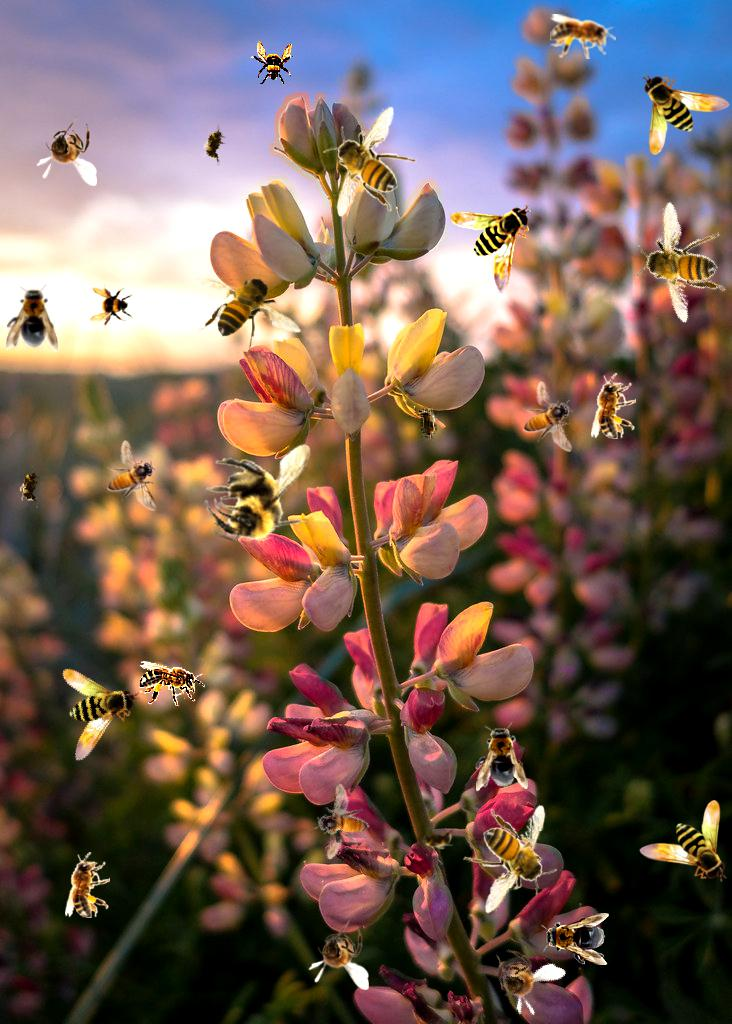Bee: (192, 417, 331, 562), (610, 187, 732, 333), (31, 659, 143, 775), (461, 801, 560, 917), (323, 106, 417, 217), (192, 263, 303, 357), (476, 937, 567, 1024), (639, 800, 727, 882), (642, 73, 730, 155), (450, 205, 532, 293), (301, 782, 381, 869), (36, 116, 97, 186), (308, 920, 369, 990), (471, 721, 529, 793), (107, 440, 157, 511), (523, 381, 573, 452), (541, 913, 609, 965), (6, 284, 58, 352), (139, 661, 205, 706), (591, 373, 636, 439), (550, 14, 616, 59), (65, 852, 110, 918), (89, 285, 133, 329), (250, 41, 294, 85), (198, 121, 232, 167), (16, 464, 46, 508), (413, 402, 441, 446), (417, 828, 457, 850)
